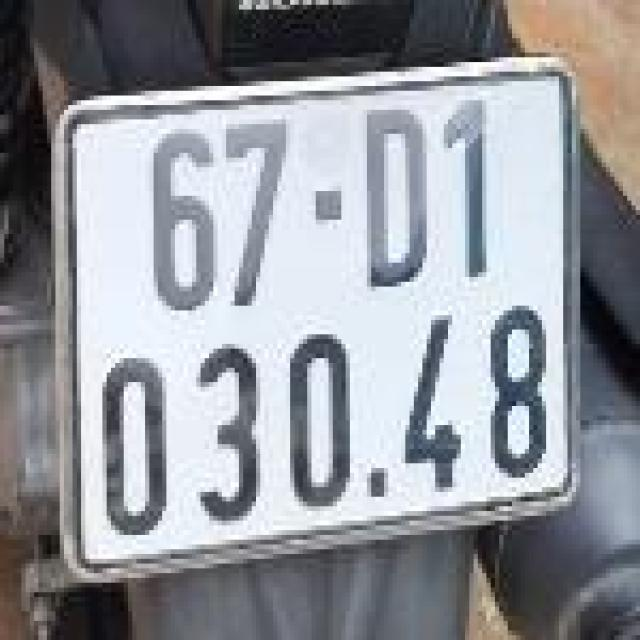0: (271, 320, 369, 516), (92, 348, 177, 544)
1: (439, 79, 508, 294)
3: (177, 334, 284, 535)
4: (386, 308, 467, 499)
6: (132, 119, 222, 320)
7: (205, 105, 311, 315)
8: (478, 291, 572, 492)
D: (352, 98, 433, 289)
